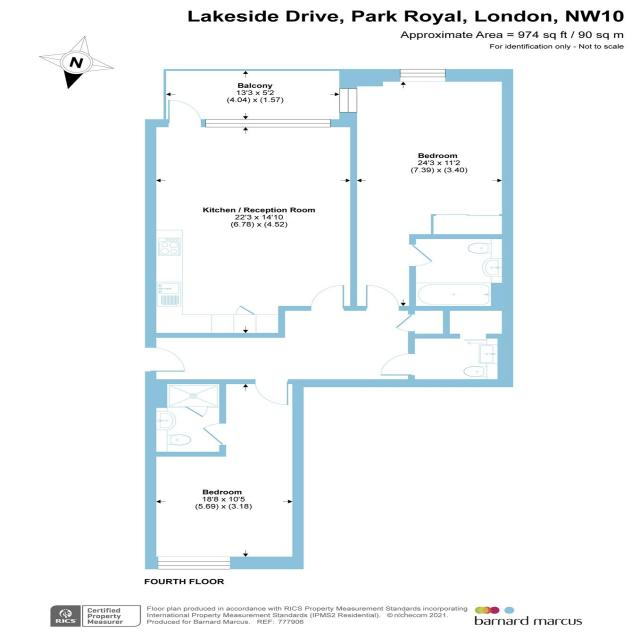DOOR: (142, 345, 190, 375), (361, 282, 403, 315), (306, 282, 347, 314), (251, 377, 292, 407), (166, 97, 205, 128), (376, 351, 419, 378), (195, 420, 228, 453), (404, 241, 437, 271)
ROOM: (142, 95, 360, 340), (337, 67, 515, 313), (142, 378, 306, 571)
WINDOW: (203, 116, 332, 131), (155, 555, 233, 571), (396, 66, 449, 84), (336, 86, 360, 115)
